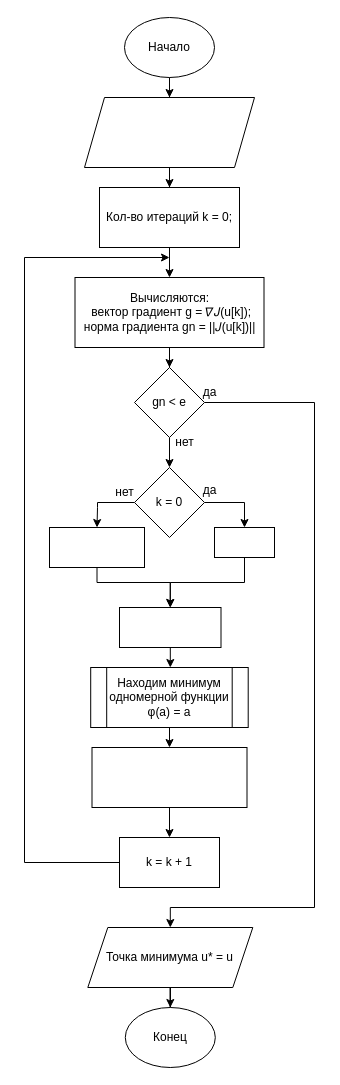
The diagram is 340 pixels wide and 1085 high, and some of its shapes have lost their labels. Here are the shapes that lost their labels. From the top down, the centre of each, then its label:
(x=169, y=132): Ввод начальной точки u и точности e
(x=96, y=547): b =gn 2 /gn k-1 2 ; d = -g + b*d k-1
(x=244, y=542): d = -g
(x=169, y=627): φ(a) =𝐽(u + a*d)
(x=169, y=777): Вычисляется новая точка u = u + a*d
